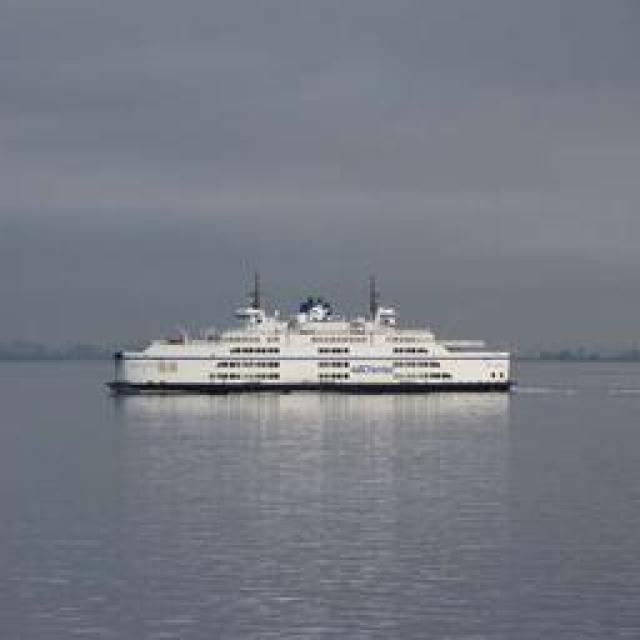Ship: (120, 268, 520, 396)
